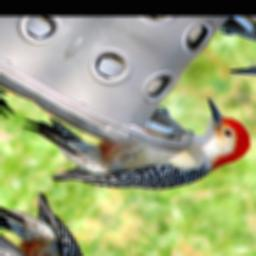Woodpecker: (0, 32, 256, 248)
